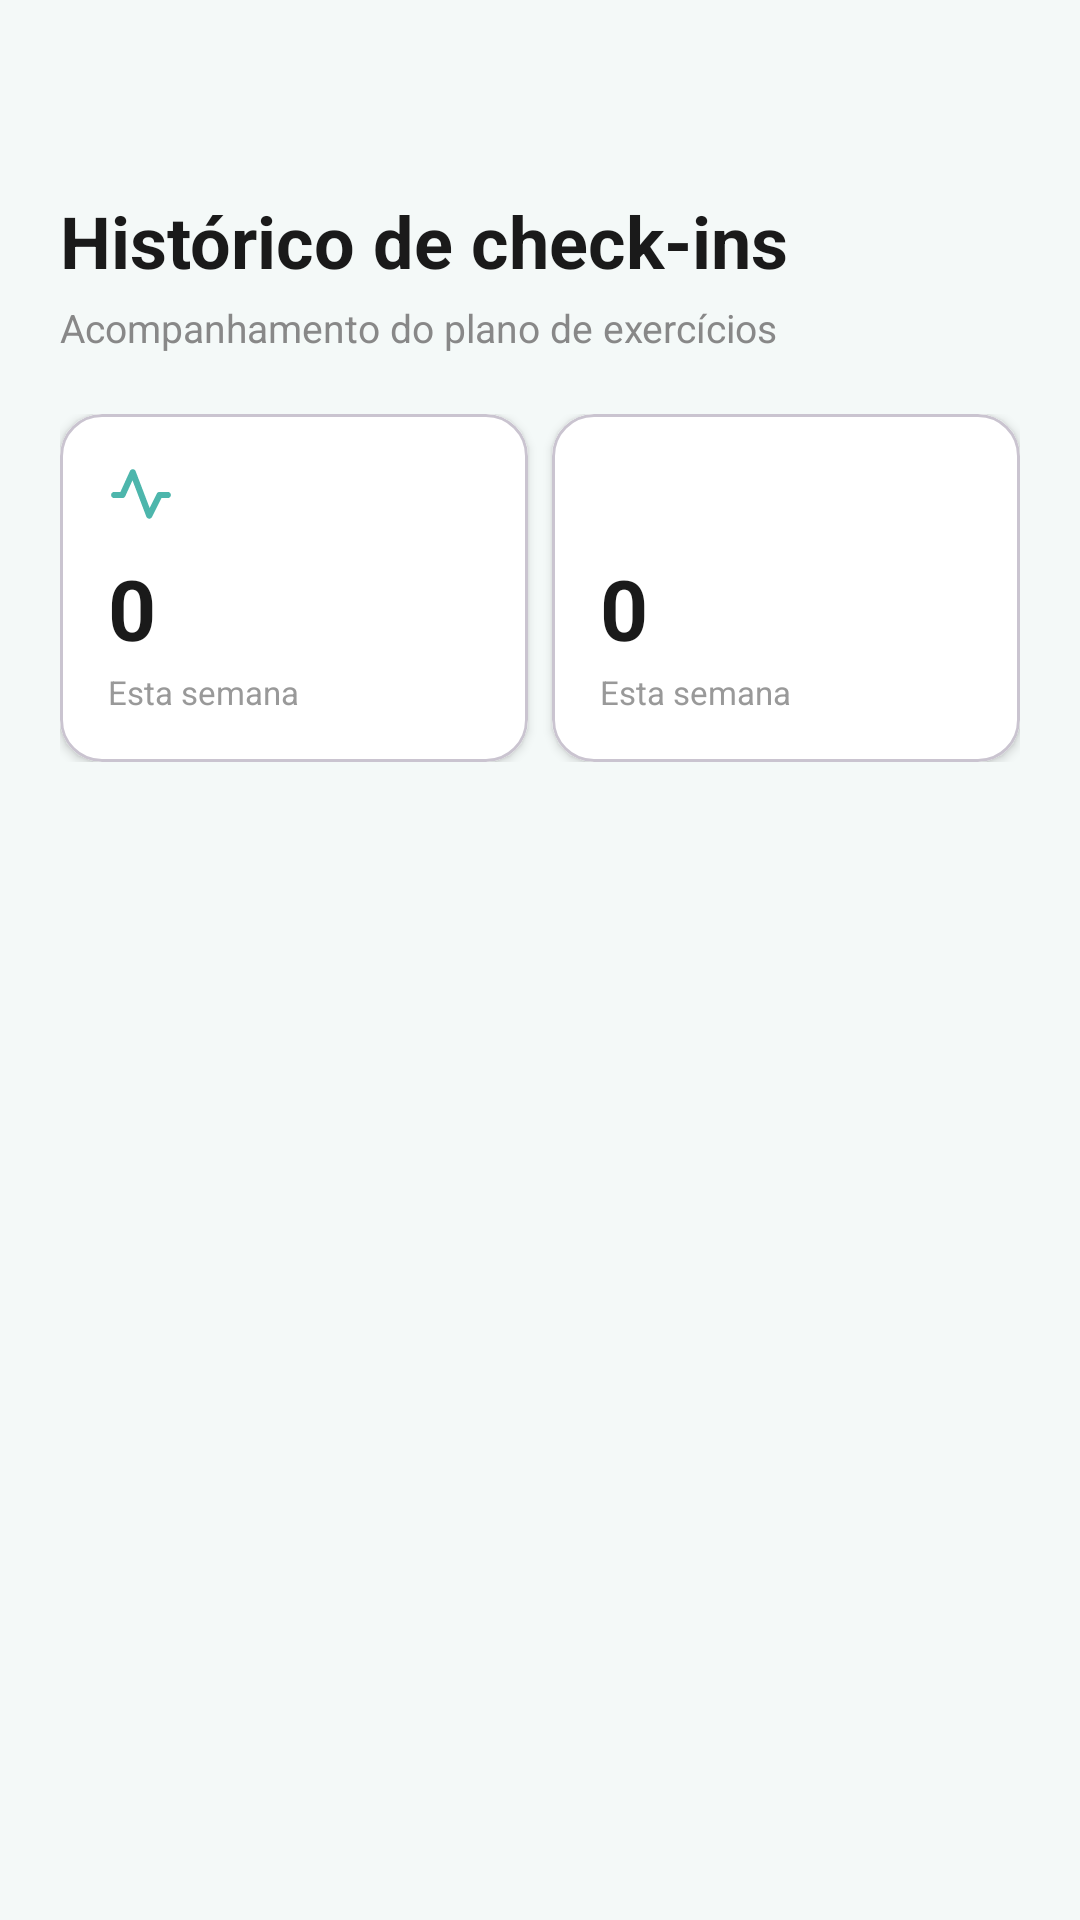

Icons on this 1080w x 1920h Android screen, each with the point to tap as (x,y):
vital: (141,494)
